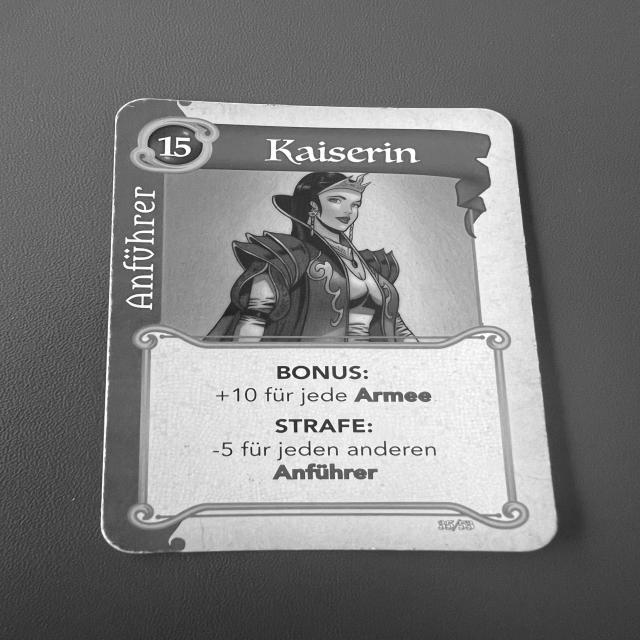Empress: (104, 95, 566, 555)
